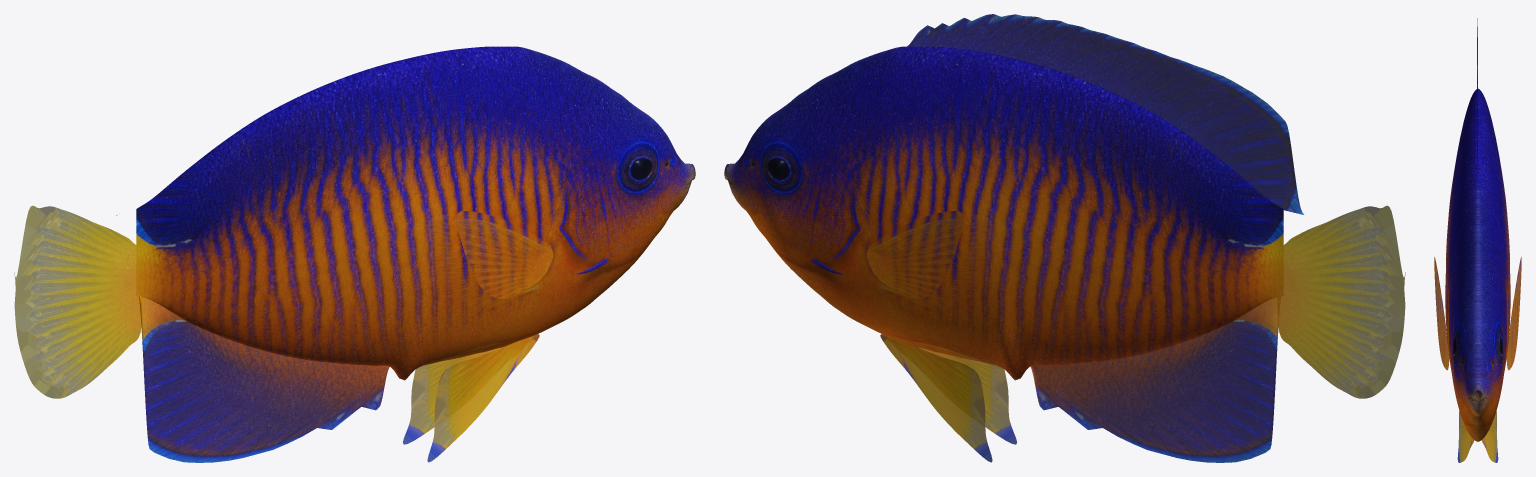
Rendered from bispinosa-D7N2PNTQ.glb.
3 views of the same model, side by side, from view 1: azimuth 30°, elevation 25°; view 2: azimuth 150°, elevation 25°; view 3: azimuth 270°, elevation 25° (orthographic). The views are drawn at different scales.
Visible parts, largest first — view 1: bispinosa__body, bispinosa__fin_2, bispinosa__fin_0, bispinosa__pectoral_1, bispinosa__gill_1, bispinosa__pelvic_1, bispinosa__pelvic_-1, bispinosa__eye_1; view 2: bispinosa__body, bispinosa__fin_2, bispinosa__fin_1, bispinosa__fin_0, bispinosa__pectoral_-1, bispinosa__gill_-1, bispinosa__pelvic_-1, bispinosa__pelvic_1, bispinosa__eye_-1; view 3: bispinosa__body, bispinosa__pectoral_1, bispinosa__pectoral_-1, bispinosa__pelvic_1, bispinosa__pelvic_-1, bispinosa__gill_1, bispinosa__gill_-1, bispinosa__fin_1, bispinosa__eye_1, bispinosa__eye_-1.
Boxes of the visible parts, x1,y1,x2,y2 form: bispinosa__body: [136, 46, 695, 380]; bispinosa__fin_2: [138, 295, 389, 462]; bispinosa__fin_0: [14, 205, 141, 398]; bispinosa__pectoral_1: [456, 211, 553, 298]; bispinosa__gill_1: [555, 135, 610, 284]; bispinosa__pelvic_1: [427, 334, 539, 462]; bispinosa__pelvic_-1: [403, 347, 500, 444]; bispinosa__eye_1: [624, 151, 654, 187]; bispinosa__body: [724, 46, 1283, 380]; bispinosa__fin_2: [1030, 297, 1278, 462]; bispinosa__fin_1: [907, 14, 1304, 214]; bispinosa__fin_0: [1277, 205, 1405, 398]; bispinosa__pectoral_-1: [866, 211, 963, 298]; bispinosa__gill_-1: [809, 135, 864, 284]; bispinosa__pelvic_-1: [880, 334, 992, 462]; bispinosa__pelvic_1: [919, 347, 1016, 444]; bispinosa__eye_-1: [765, 151, 795, 187]; bispinosa__body: [1445, 88, 1510, 441]; bispinosa__pectoral_1: [1434, 257, 1449, 370]; bispinosa__pectoral_-1: [1506, 257, 1521, 370]; bispinosa__pelvic_1: [1457, 411, 1474, 462]; bispinosa__pelvic_-1: [1481, 411, 1498, 462]; bispinosa__gill_1: [1449, 275, 1456, 400]; bispinosa__gill_-1: [1499, 275, 1506, 400]; bispinosa__fin_1: [1477, 18, 1477, 183]; bispinosa__eye_1: [1453, 330, 1457, 360]; bispinosa__eye_-1: [1498, 330, 1502, 360].
Size of the model in its own units: 1.23 by 0.7705 by 0.1666.
Materials: 5 (5 with a texture image).
